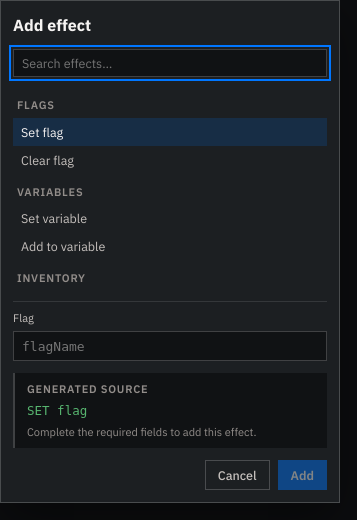
Test case: ConditionEffectBuilder interactions › keeps requirements neutral until the author leaves a field
Click the button "Set flag". click: point(42, 132)
box: [13,118,327,146]
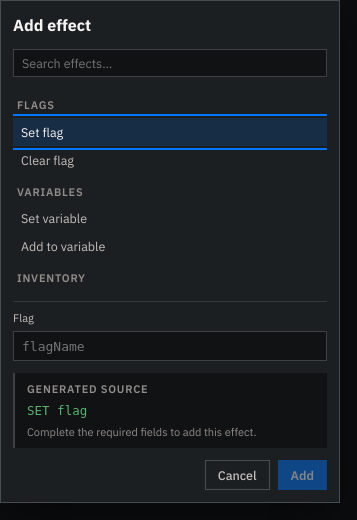
Check: the text "Flag is required." is not shown
Check: the text "Complete the required fields to add this effect." is shown, box [27,425,256,439]
Leave the field with placeholder "flagName", box [13,330,327,360]
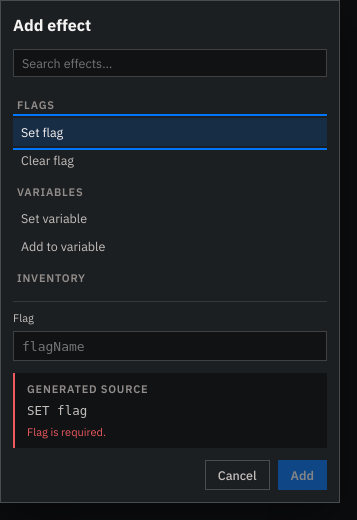
Check: the text "Flag is required." is shown, box [27,425,106,439]
